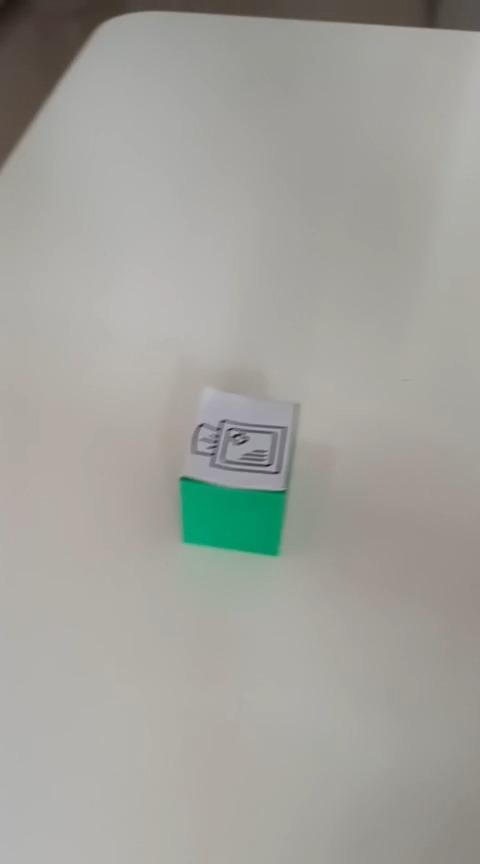Gauze: (177, 384, 300, 557)
